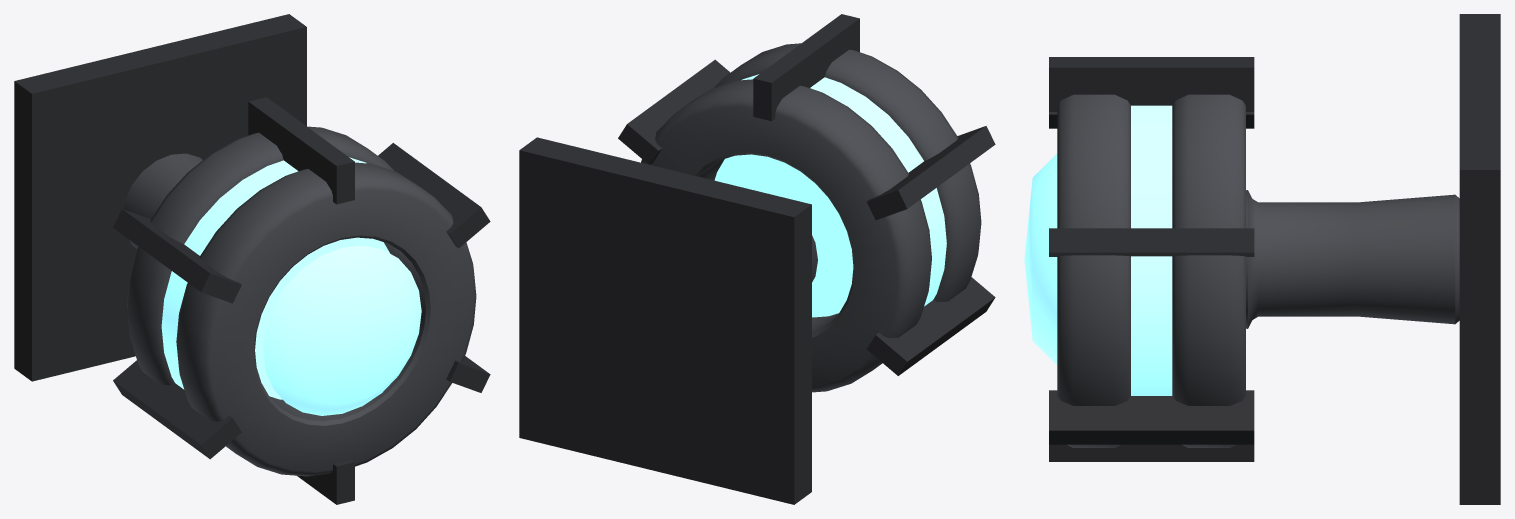
Rendered from Membrane_Anchor_B.glb.
3 views of the same model, side by side, from view 1: azimuth 30°, elevation 25°; view 2: azimuth 150°, elevation 25°; view 3: azimuth 270°, elevation 25° (orthographic). The views are drawn at different scales.
Visible parts, largest first — view 1: Membrane_Anchor_B; view 2: Membrane_Anchor_B; view 3: Membrane_Anchor_B.
Boxes of the visible parts, box(x1,y1,x2,y2) form: Membrane_Anchor_B: box(14, 14, 490, 504); Membrane_Anchor_B: box(519, 14, 995, 504); Membrane_Anchor_B: box(1024, 14, 1500, 504).
Bounding box in the file's own units: 0.948 × 1.06 × 1.16.
